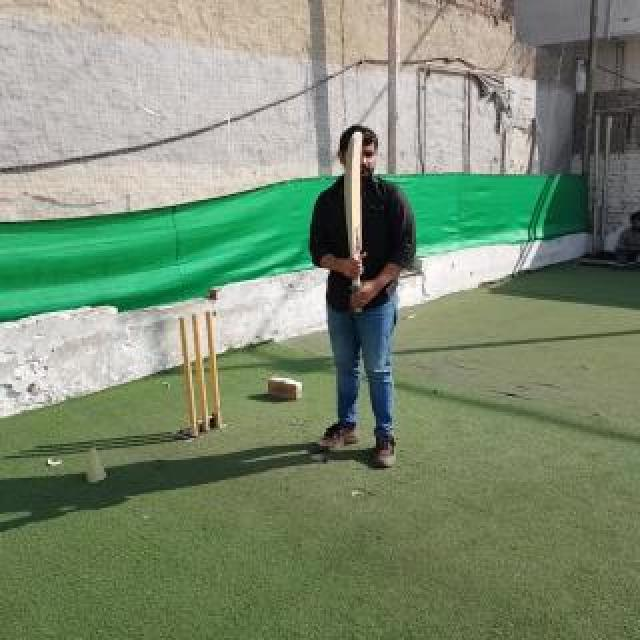bat: (343, 131, 363, 313)
